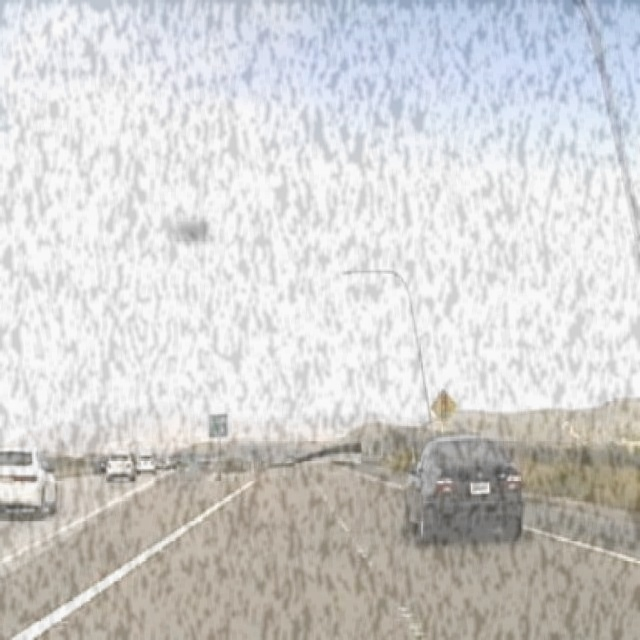signalAhead: (430, 388, 458, 425)
